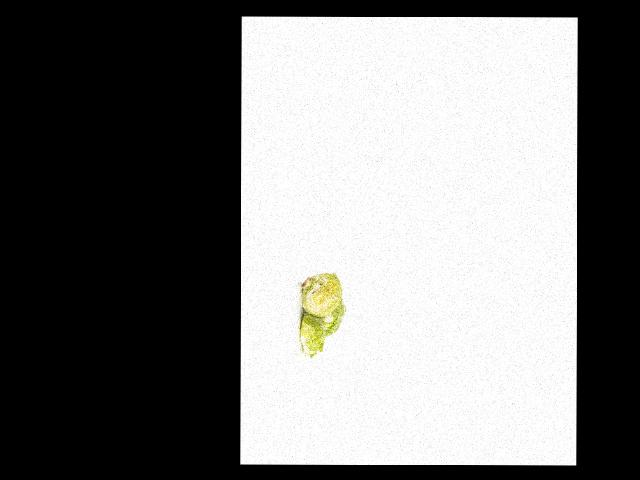lettuce: (317, 293, 347, 340)
